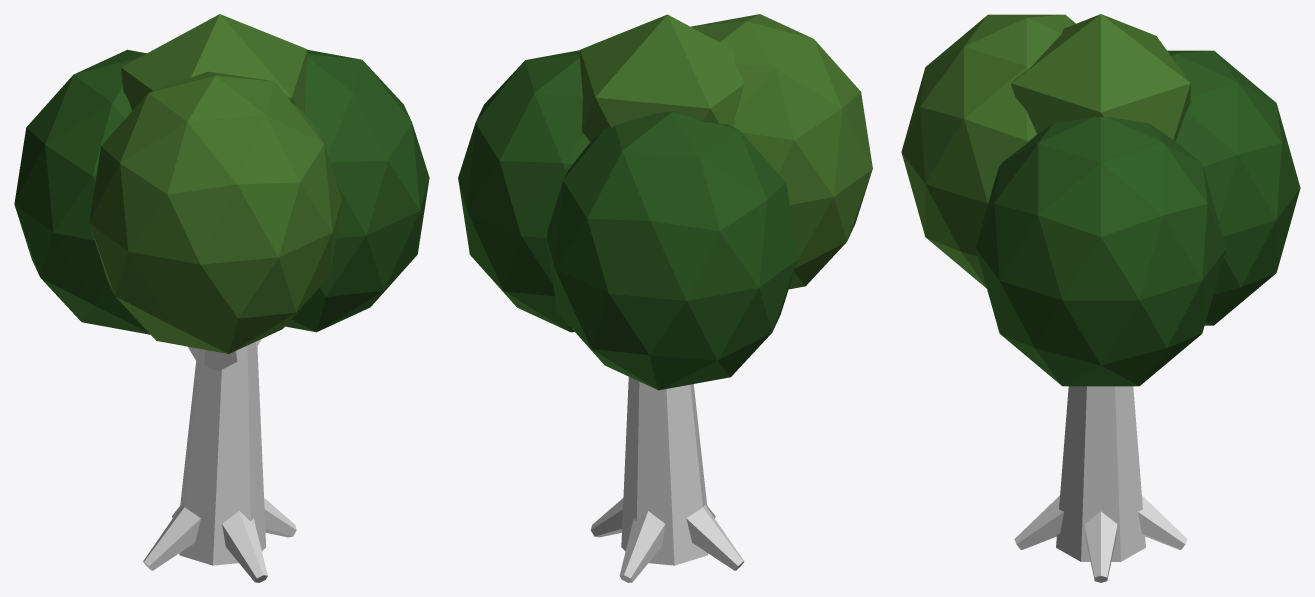
File: Tree0_Split.fbx
3 views of the same model, side by side, from view 1: azimuth 30°, elevation 25°; view 2: azimuth 150°, elevation 25°; view 3: azimuth 270°, elevation 25° (orthographic).
Visible parts, largest first — view 1: Tree0_Crown, Tree0_Trunk; view 2: Tree0_Crown, Tree0_Trunk; view 3: Tree0_Crown, Tree0_Trunk.
Boxes of the visible parts, left/top/right/bottom form: Tree0_Crown: left=14, top=14, right=429, bottom=353; Tree0_Trunk: left=143, top=339, right=296, bottom=582; Tree0_Crown: left=458, top=14, right=872, bottom=390; Tree0_Trunk: left=591, top=377, right=744, bottom=582; Tree0_Crown: left=901, top=14, right=1300, bottom=386; Tree0_Trunk: left=1014, top=386, right=1187, bottom=582.
Bounding box in the file's own units: 118 × 179 × 121.
